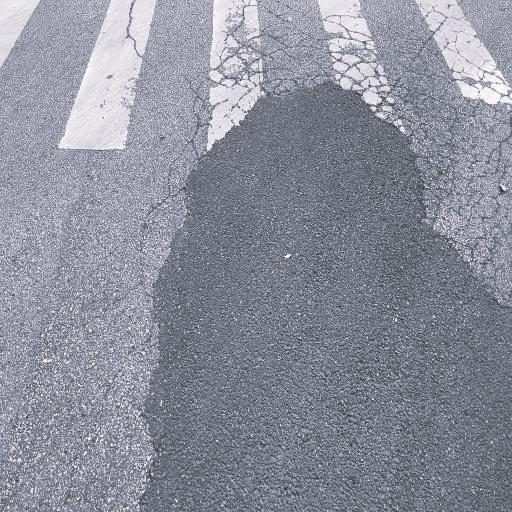Sambungan: (147, 76, 512, 512)
